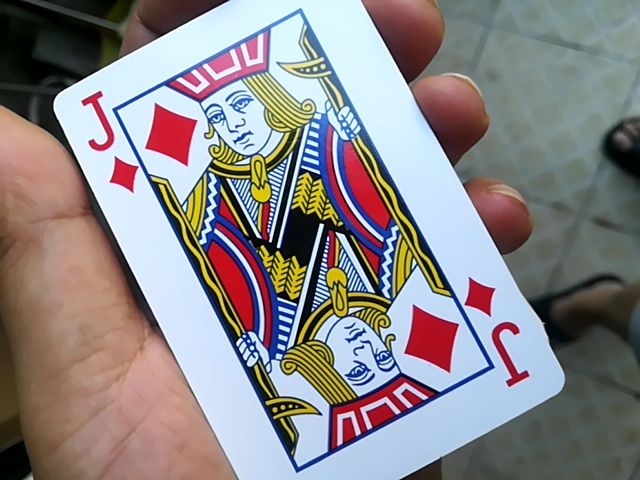fk j: (54, 3, 560, 480)
